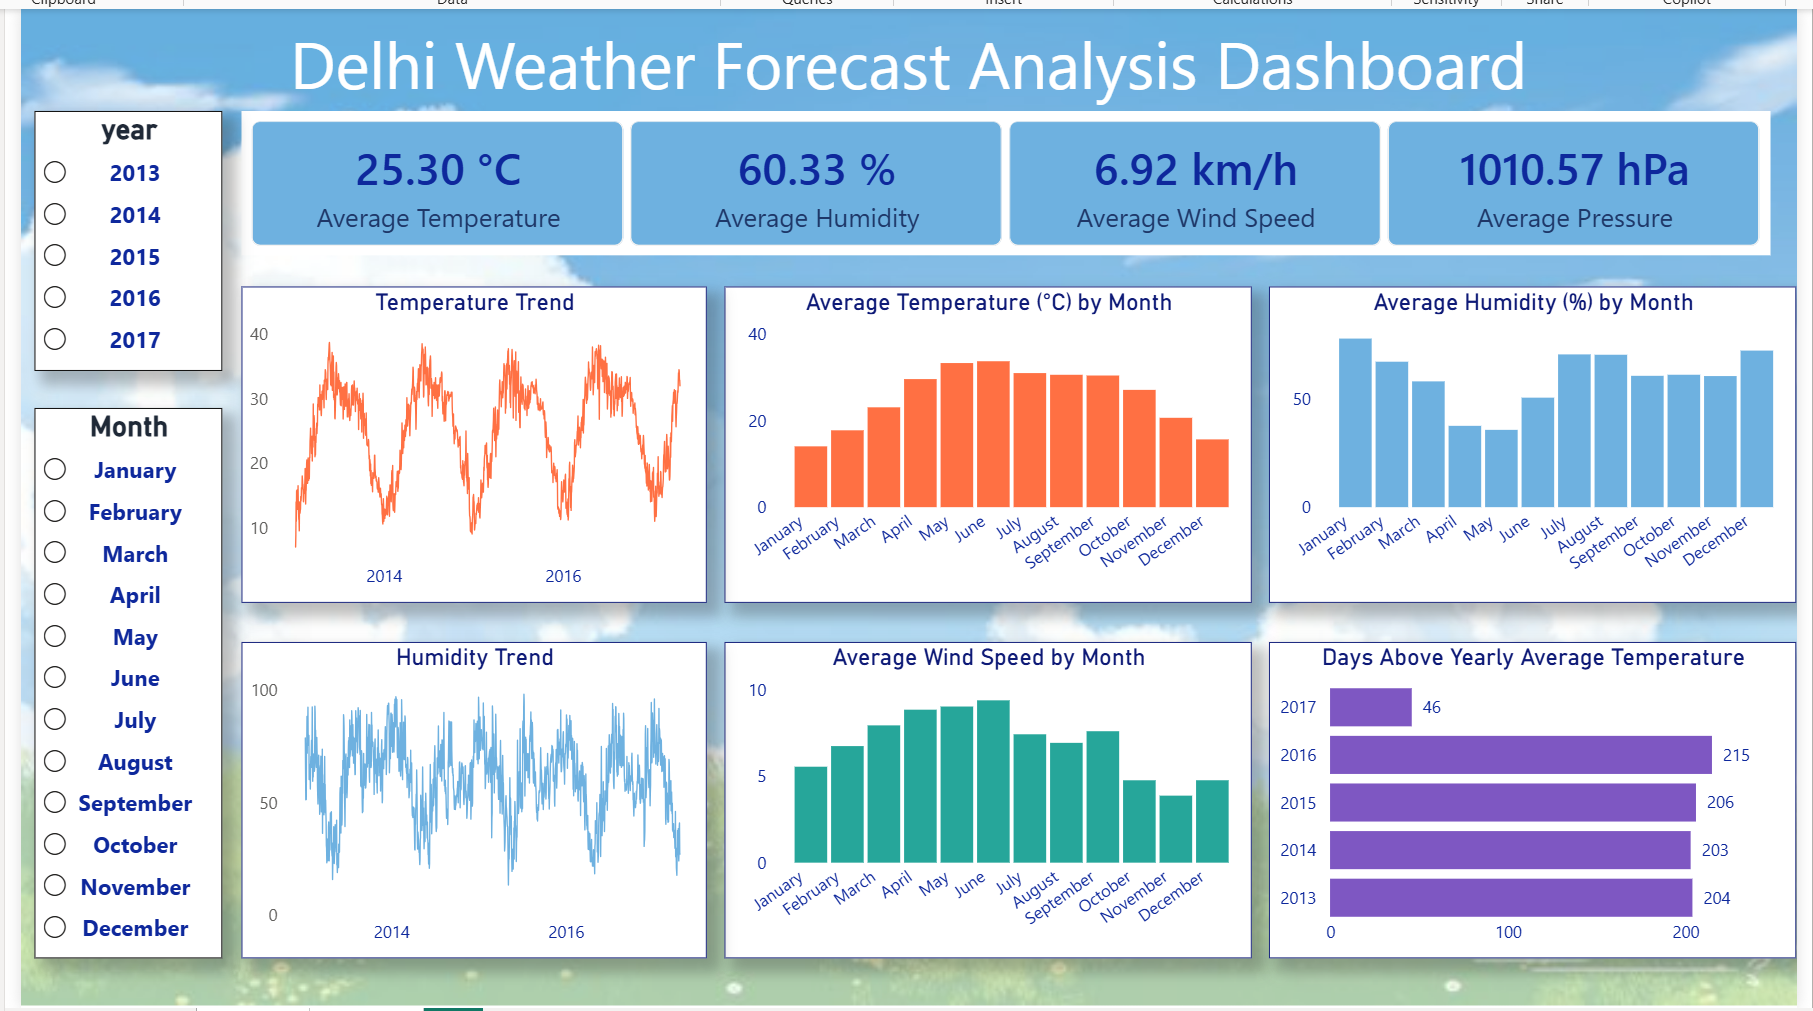

The page's visual inventory and layout, read from the dashboard file:
{"tool":"powerbi","page":{"name":"Page 1","canvas":[1280,720],"ordinal":0},"visuals":[{"type":"cardVisual","fields":{"Data":["Avg(public weather.meantemp)","Avg(public weather.humidity)","Avg(public weather.wind_speed)","public weather.Average Pressure"]},"box":[159.1,73.2,1102.2,104.2],"z":0},{"type":"listSlicer","fields":{"Values":["public weather.year"]},"box":[9.9,73.2,135.1,187.2],"z":1000},{"type":"listSlicer","fields":{"Values":["public weather.month_name"]},"box":[9.9,287.2,135.1,397],"z":2000},{"type":"shape","box":[0,0,1279.5,73.2],"z":3000},{"type":"columnChart","title":"Average Temperature (°C) by Month","fields":{"Category":["public weather.month_name"],"Y":["Avg(public weather.meantemp)"]},"box":[506.7,199.9,380.1,228],"z":4000},{"type":"columnChart","title":"Average Wind Speed by Month","fields":{"Category":["public weather.month_name"],"Y":["Avg(public weather.wind_speed)"]},"box":[506.7,456.1,380.1,228],"z":5000},{"type":"columnChart","title":"Average Humidity (%) by Month","fields":{"Category":["public weather.month_name"],"Y":["Avg(public weather.humidity)"]},"box":[899.5,199.9,380.1,228],"z":6000},{"type":"lineChart","title":"Temperature Trend","fields":{"Y":["Avg(public weather.meantemp)"],"Category":["public weather.date.Variation.Date Hierarchy.Year","public weather.date.Variation.Date Hierarchy.Quarter","public weather.date.Variation.Date Hierarchy.Month","public weather.date.Variation.Date Hierarchy.Day"]},"box":[159.1,199.9,335,228],"z":7000},{"type":"lineChart","title":"Humidity Trend","fields":{"Category":["public weather.date.Variation.Date Hierarchy.Year","public weather.date.Variation.Date Hierarchy.Quarter","public weather.date.Variation.Date Hierarchy.Month","public weather.date.Variation.Date Hierarchy.Day"],"Y":["Avg(public weather.humidity)"]},"box":[159.1,456.1,335,228],"z":8000},{"type":"barChart","title":"Days Above Yearly Average Temperature","fields":{"Category":["Days_Above_Yearly_Avg.year"],"Y":["Sum(Days_Above_Yearly_Avg.days_above_yearly_avg)"]},"box":[899.5,456.1,380.1,228],"z":9000}]}

Visuals, with their boxes in screenshot pixels (x1, y1, x2, y2):
cardVisual - Avg(public weather.meantemp) x Avg(public weather.humidity): (x1=239, y1=106, x2=1764, y2=250)
listSlicer - public weather.year: (x1=33, y1=106, x2=220, y2=365)
listSlicer - public weather.month_name: (x1=33, y1=402, x2=220, y2=952)
shape: (x1=19, y1=5, x2=1790, y2=106)
"Average Temperature (°C) by Month" columnChart: (x1=720, y1=281, x2=1246, y2=597)
"Average Wind Speed by Month" columnChart: (x1=720, y1=636, x2=1246, y2=951)
"Average Humidity (%) by Month" columnChart: (x1=1264, y1=281, x2=1790, y2=597)
"Temperature Trend" lineChart: (x1=239, y1=281, x2=703, y2=597)
"Humidity Trend" lineChart: (x1=239, y1=636, x2=703, y2=951)
"Days Above Yearly Average Temperature" barChart: (x1=1264, y1=636, x2=1790, y2=951)
